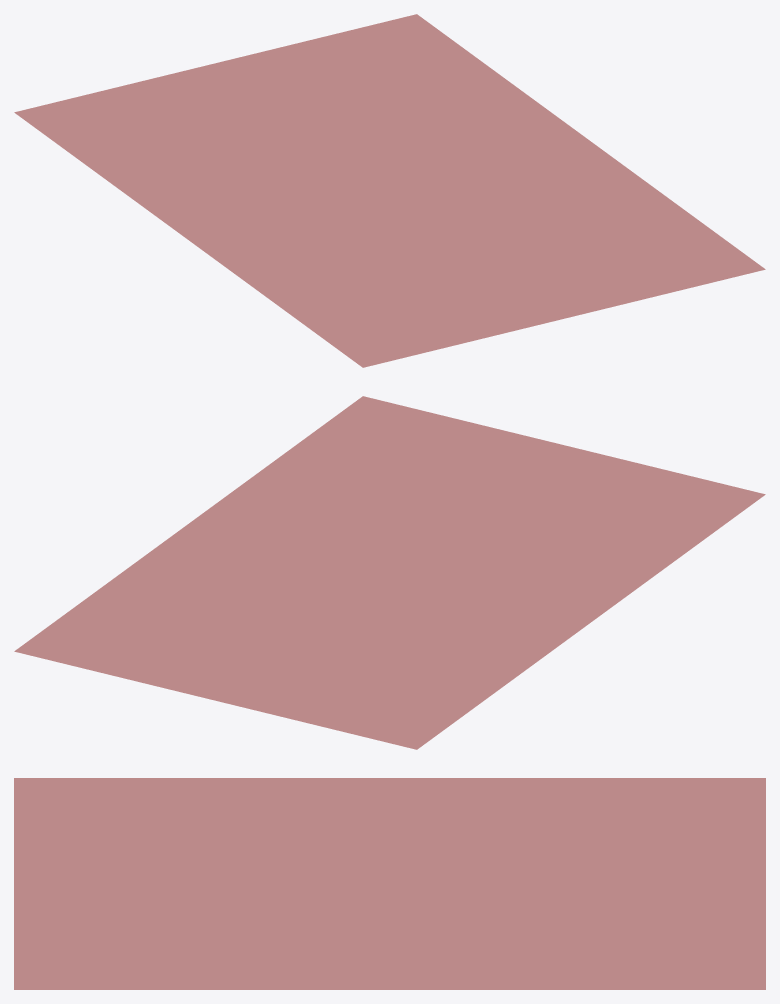
The model's file is Floor.FBX.
The picture shows the model from 3 angles, top to bottom: view 1: azimuth 30°, elevation 25°; view 2: azimuth 150°, elevation 25°; view 3: azimuth 270°, elevation 25°; orthographic projection. The views are drawn at different scales.
Parts seen in each view (by area): view 1: Floor; view 2: Floor; view 3: Floor.
Part boxes in pixels (x1,y1,x2,y2): Floor: (14,14,765,367); Floor: (14,396,765,749); Floor: (14,778,765,989).
Bounding box in the file's own units: 787 × 0.000454 × 1181.
